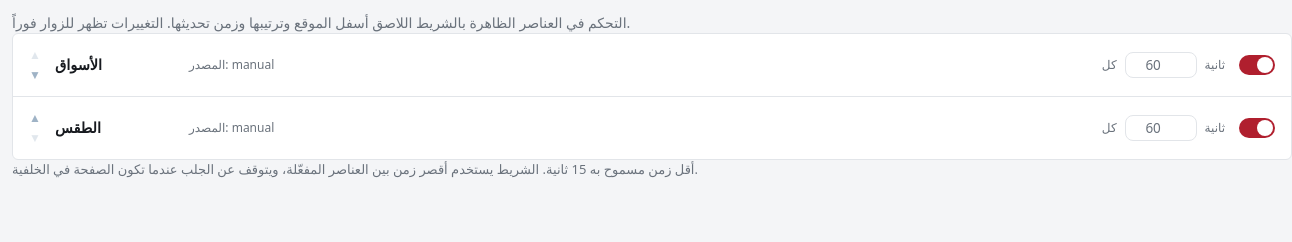
Test: TickerManager › puts the order back and says so when a reorder fails
Click the button named "تحريك الطقس لأعلى": [35, 118] box [29,109,41,127]
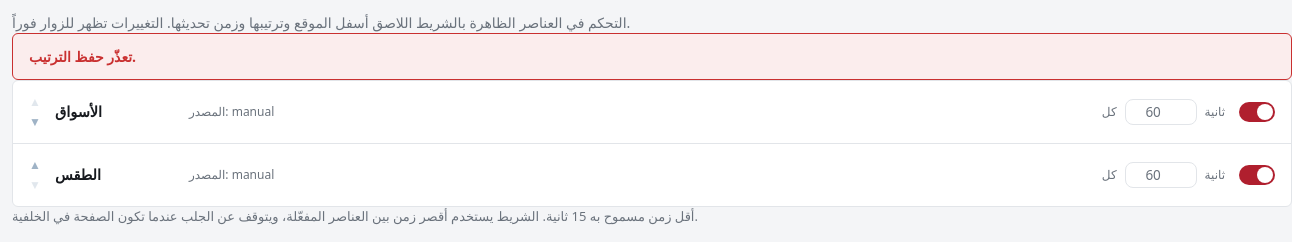
Expected: the button named "تحريك الأسواق لأعلى" is disabled, [29,93,41,111]
Expected: the message shows "تعذّر حفظ الترتيب", [29,47,136,66]
